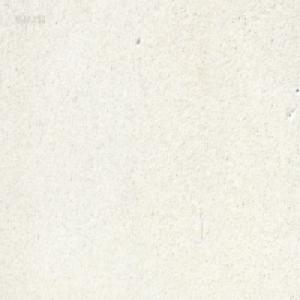Wrench: (184, 0, 190, 5)
